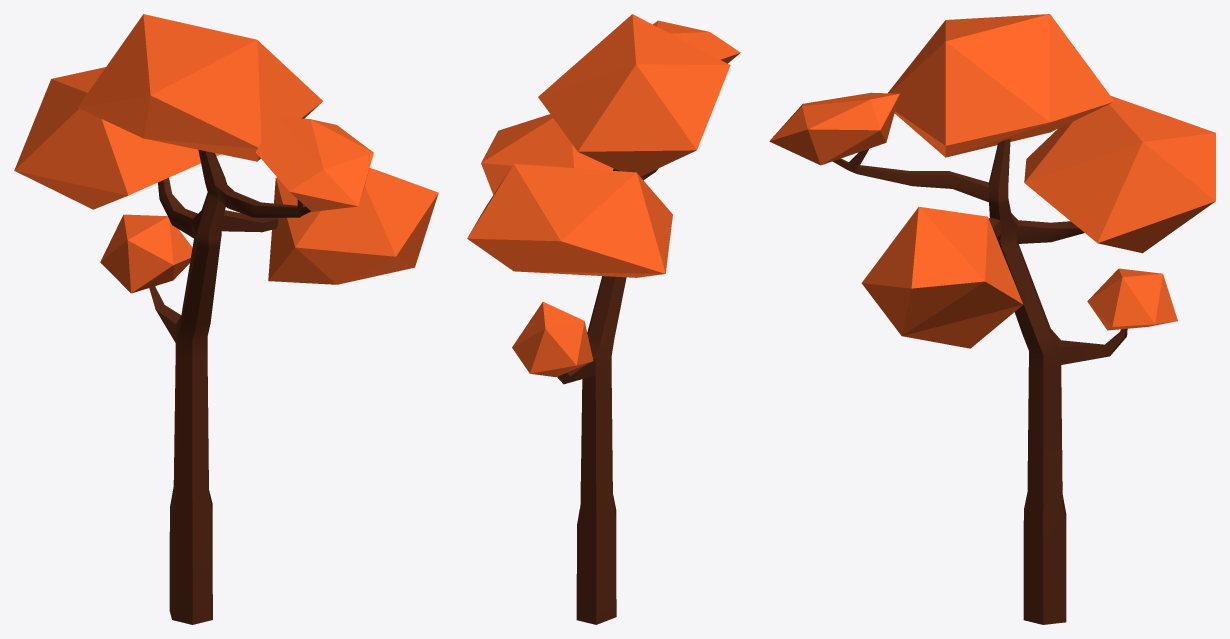
File: highlands_tree.obj
3 renders of one model, left to right at view 1: azimuth 30°, elevation 25°; view 2: azimuth 150°, elevation 25°; view 3: azimuth 270°, elevation 25°, orthographic. The views are drawn at different scales.
Visible parts, largest first — view 1: pasted__jungle_tree group9 pasted__pPlatonic3, pasted__pCylinder4 pasted__jungle_tree group9, pasted__jungle_tree group9 pasted__pPlatonic7, pasted__jungle_tree group9 pasted__pPlatonic4, pasted__jungle_tree group9 pasted__pPlatonic5, pasted__jungle_tree group9 pasted__pPlatonic2; view 2: pasted__jungle_tree group9 pasted__pPlatonic3, pasted__jungle_tree group9 pasted__pPlatonic4, pasted__pCylinder4 pasted__jungle_tree group9, pasted__jungle_tree group9 pasted__pPlatonic7, pasted__jungle_tree group9 pasted__pPlatonic2, pasted__jungle_tree group9 pasted__pPlatonic5; view 3: pasted__jungle_tree group9 pasted__pPlatonic3, pasted__jungle_tree group9 pasted__pPlatonic4, pasted__pCylinder4 pasted__jungle_tree group9, pasted__jungle_tree group9 pasted__pPlatonic7, pasted__jungle_tree group9 pasted__pPlatonic5, pasted__jungle_tree group9 pasted__pPlatonic2.
Part boxes in pixels (x1,y1,x2,y2): pasted__jungle_tree group9 pasted__pPlatonic3: [77, 14, 322, 161]; pasted__pCylinder4 pasted__jungle_tree group9: [149, 149, 310, 624]; pasted__jungle_tree group9 pasted__pPlatonic7: [268, 168, 438, 284]; pasted__jungle_tree group9 pasted__pPlatonic4: [14, 67, 220, 209]; pasted__jungle_tree group9 pasted__pPlatonic5: [256, 116, 373, 211]; pasted__jungle_tree group9 pasted__pPlatonic2: [100, 214, 192, 293]; pasted__jungle_tree group9 pasted__pPlatonic3: [538, 14, 730, 176]; pasted__jungle_tree group9 pasted__pPlatonic4: [467, 164, 672, 277]; pasted__pCylinder4 pasted__jungle_tree group9: [557, 168, 658, 624]; pasted__jungle_tree group9 pasted__pPlatonic7: [481, 114, 613, 194]; pasted__jungle_tree group9 pasted__pPlatonic2: [512, 302, 593, 376]; pasted__jungle_tree group9 pasted__pPlatonic5: [653, 20, 740, 63]; pasted__jungle_tree group9 pasted__pPlatonic3: [888, 14, 1114, 157]; pasted__jungle_tree group9 pasted__pPlatonic4: [1024, 96, 1215, 253]; pasted__pCylinder4 pasted__jungle_tree group9: [832, 138, 1127, 624]; pasted__jungle_tree group9 pasted__pPlatonic7: [861, 206, 1023, 348]; pasted__jungle_tree group9 pasted__pPlatonic5: [769, 92, 899, 165]; pasted__jungle_tree group9 pasted__pPlatonic2: [1087, 268, 1177, 330].
Size of the model in its own units: 5.42 by 10.43 by 7.26.
